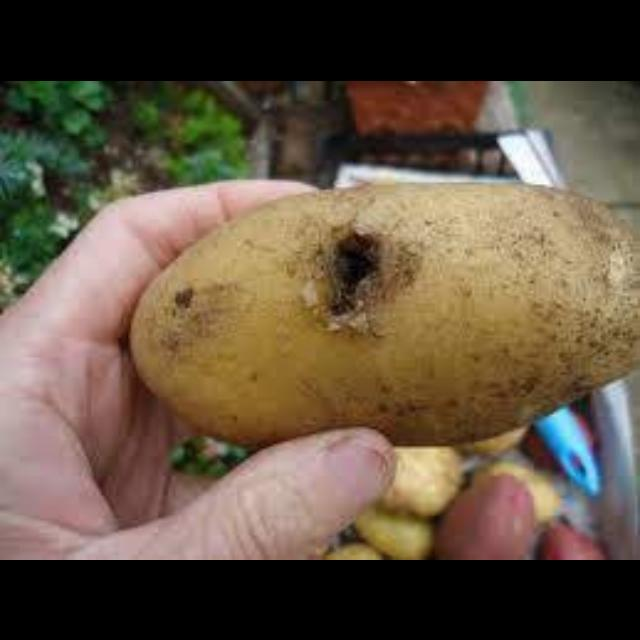Damaged potato: (126, 171, 640, 474)
